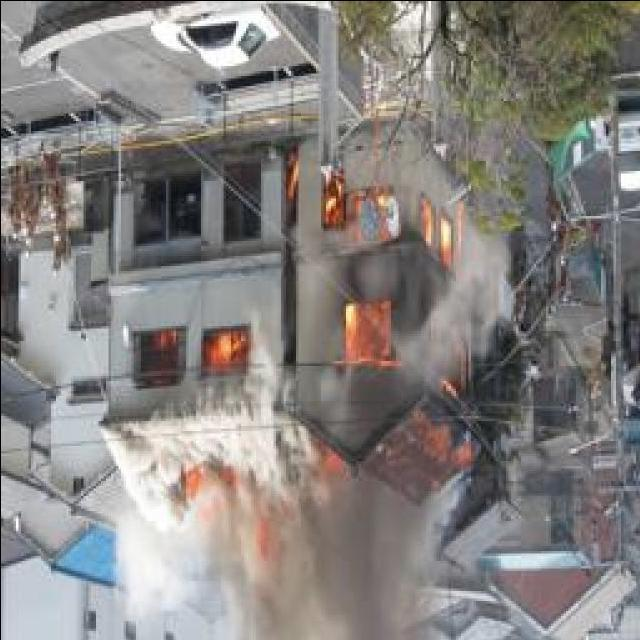Fire: (320, 176, 487, 479), (178, 467, 290, 558), (146, 332, 260, 388)
